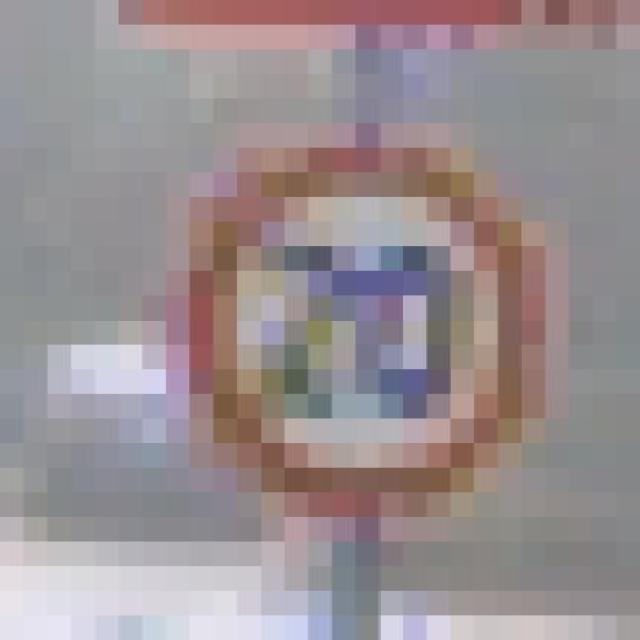forb_speed_over_20: (192, 153, 537, 512)
